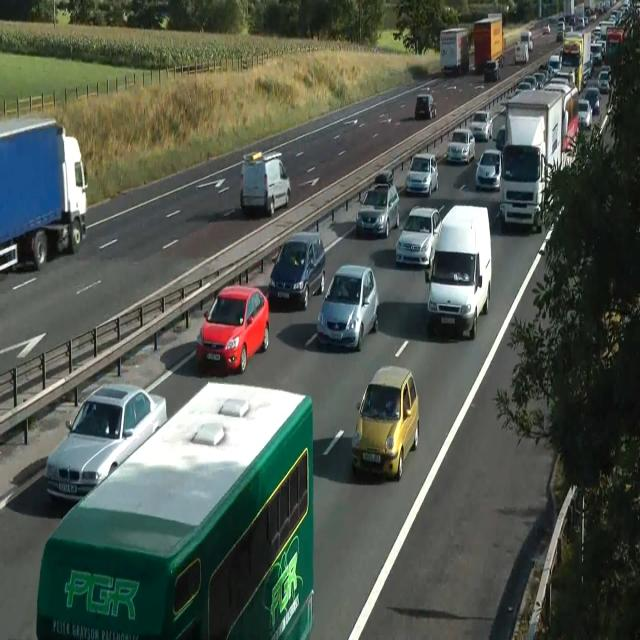bus: (44, 381, 168, 505), (350, 364, 420, 481), (196, 284, 270, 374), (316, 264, 379, 351), (268, 231, 326, 309), (395, 204, 442, 266), (356, 182, 400, 238), (405, 152, 438, 196), (445, 126, 475, 164), (475, 148, 502, 190), (468, 110, 492, 142), (414, 93, 436, 119), (584, 86, 601, 115), (578, 99, 592, 128), (484, 59, 501, 82), (598, 70, 610, 94), (548, 53, 561, 75), (495, 126, 506, 150), (375, 170, 393, 184), (542, 23, 550, 35)
car: (36, 380, 314, 638)
jeep: (498, 142, 546, 232), (239, 150, 291, 215)
minibus: (0, 116, 88, 272), (498, 82, 580, 232), (424, 203, 492, 339), (549, 31, 593, 93), (473, 12, 505, 74), (439, 26, 469, 76), (514, 29, 533, 64), (521, 29, 533, 52)
